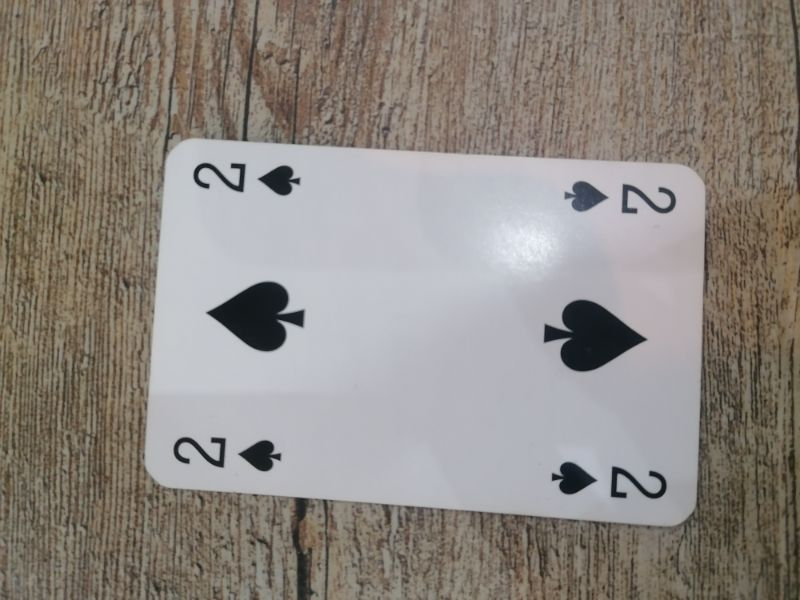2s: (556, 172, 688, 224), (189, 152, 306, 206), (544, 457, 672, 506), (167, 431, 286, 476)
